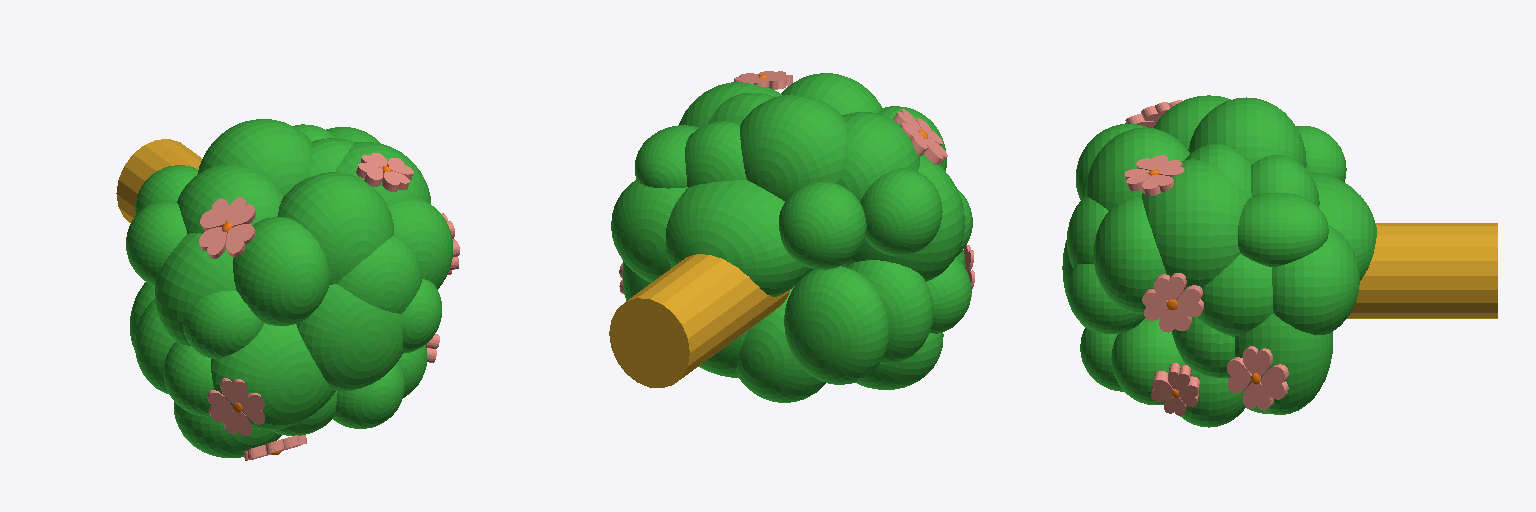
Rendered from tinker.obj.
3 renders of one model, left to right at view 1: azimuth 30°, elevation 25°; view 2: azimuth 150°, elevation 25°; view 3: azimuth 270°, elevation 25°, orthographic.
Parts seen in each view (by area): view 1: obj_0; view 2: obj_0; view 3: obj_0.
Boxes of the visible parts, <box> form: obj_0: <box>116,119,459,460</box>; obj_0: <box>609,71,974,402</box>; obj_0: <box>1062,95,1497,427</box>.
Size of the model in its own units: 76 by 73 by 98.